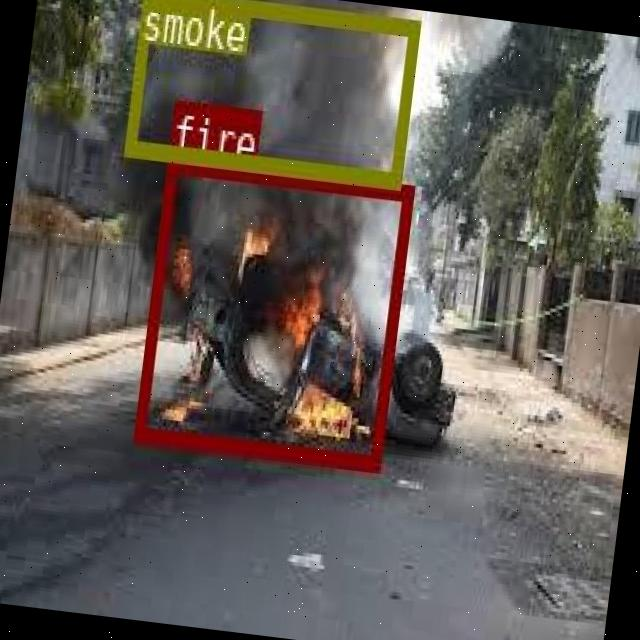fire: (131, 154, 412, 468)
smoke: (123, 0, 420, 186)
